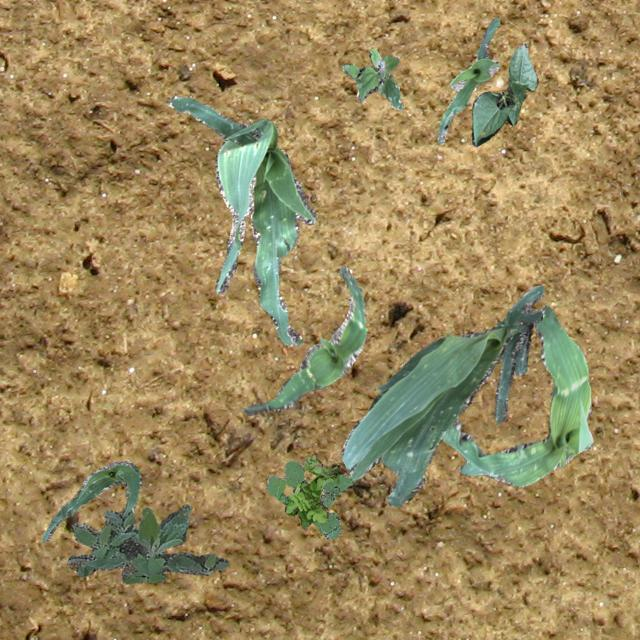crop: (340, 284, 542, 506), (168, 94, 316, 344), (442, 304, 592, 486), (240, 264, 366, 414), (41, 460, 140, 542), (437, 18, 499, 144), (471, 42, 536, 146)
weed: (66, 503, 228, 582), (264, 461, 354, 538), (284, 453, 338, 528), (342, 48, 402, 108)
